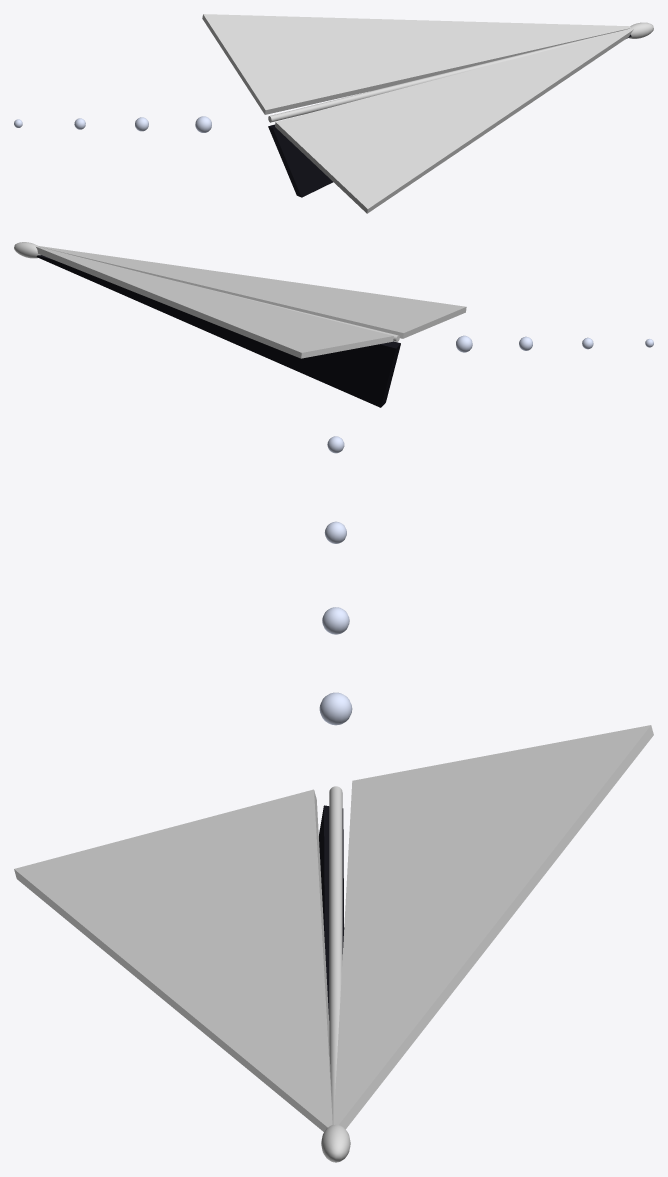
Rendered from contact.glb.
3 renders of one model, top to bottom at view 1: azimuth 30°, elevation 25°; view 2: azimuth 150°, elevation 25°; view 3: azimuth 270°, elevation 25°, orthographic. The views are drawn at different scales.
Visible parts, largest first — view 1: silver_wings, chrome_spine, dark_keel, glass_wake; view 2: silver_wings, dark_keel, chrome_spine, glass_wake; view 3: silver_wings, chrome_spine, glass_wake, dark_keel.
Part boxes in pixels (x1,y1,x2,y2): silver_wings: (202,14,633,213); chrome_spine: (268,22,653,122); dark_keel: (268,34,631,197); glass_wake: (14,116,211,132); silver_wings: (36,246,466,358); dark_keel: (36,255,400,407); chrome_spine: (14,242,399,341); glass_wake: (456,335,653,352); silver_wings: (14,725,653,1131); chrome_spine: (321,786,350,1162); glass_wake: (319,436,352,725); dark_keel: (319,805,344,1020).
Size of the model in its own units: 4.34 by 0.9036 by 1.95.
